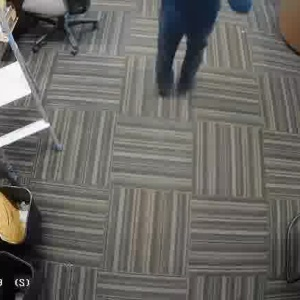person: (156, 0, 240, 93)
